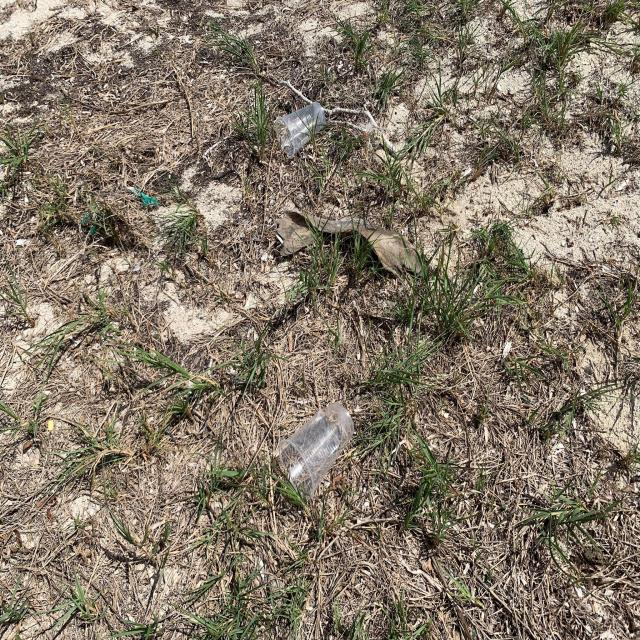litter: (278, 401, 356, 500), (274, 99, 328, 158)
